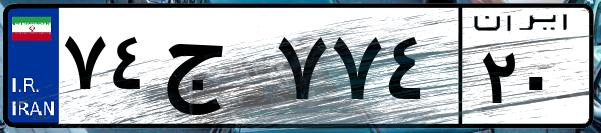0: (525, 38, 570, 115)
2: (475, 38, 525, 113)
4: (385, 28, 445, 110), (110, 28, 158, 98)
7: (270, 28, 330, 110), (330, 28, 385, 110), (57, 26, 110, 100)
ج: (158, 20, 270, 120)
